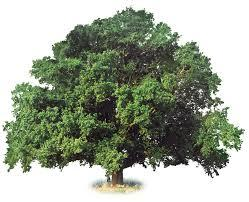tree: (6, 5, 245, 187)
